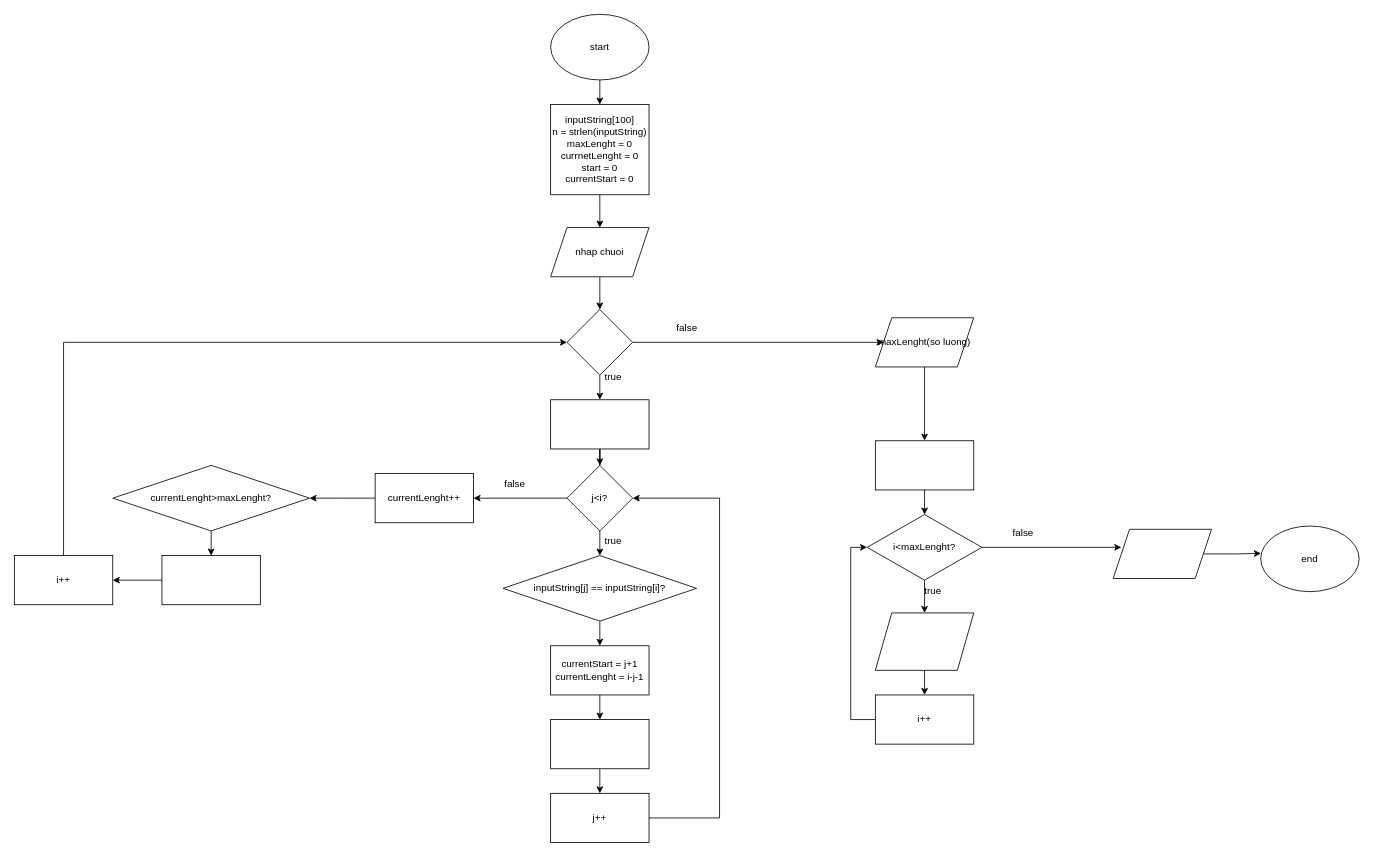
Some shapes in this 1374 by 857 pixel diagram are drawn without their labels. Here are the shapes that lost their labels. From the top down, the centre of each, then its label:
(x=599, y=342): i<n?
(x=599, y=424): j=currentStart
(x=924, y=465): i = start
(x=1162, y=553): chuoi ki tu phan biet co do dai lon nhat la
(x=210, y=580): maxLenght=currentLenght start = currentStart
(x=924, y=641): inputString[i]
(x=599, y=744): break
